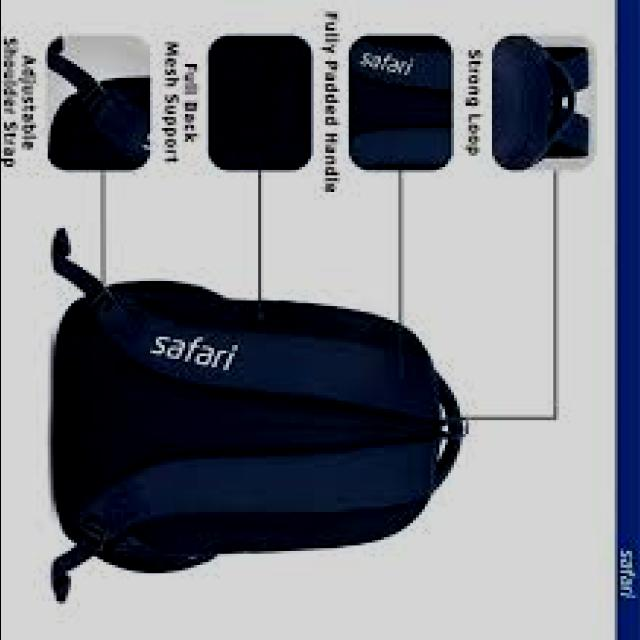backpack: (51, 226, 472, 602)
